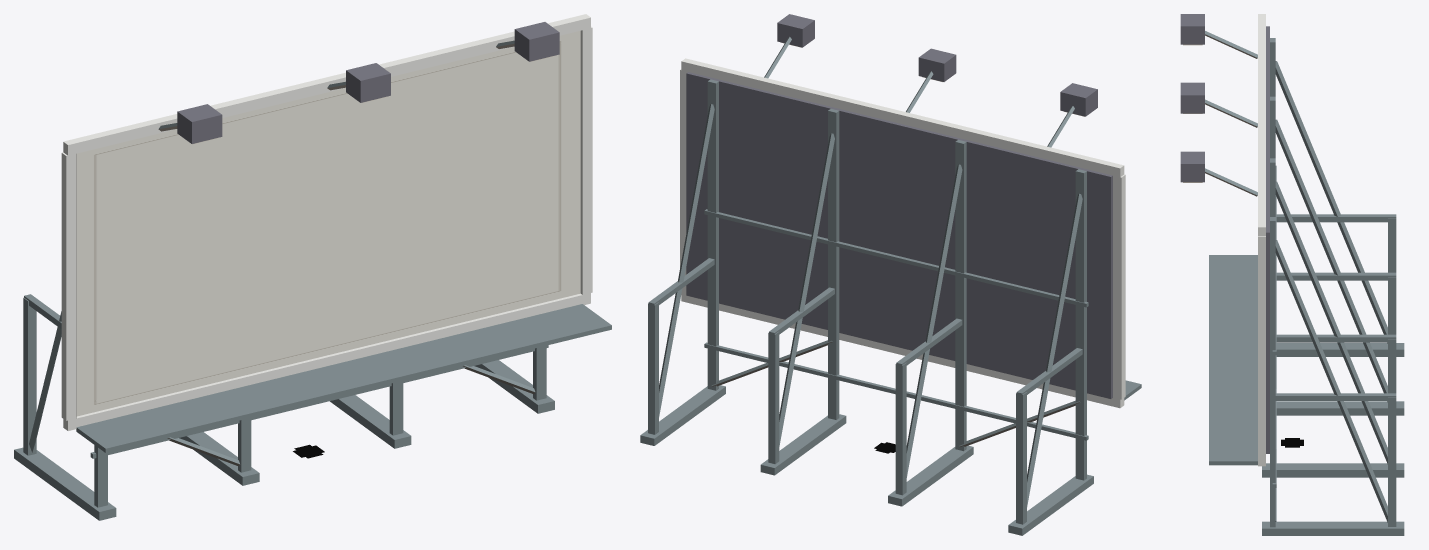
Rendered from tb_rooftop_billboard_01.fbx.
3 renders of one model, left to right at view 1: azimuth 30°, elevation 25°; view 2: azimuth 150°, elevation 25°; view 3: azimuth 270°, elevation 25°, orthographic. The views are drawn at different scales.
Visible parts, largest first — view 1: tb_rooftop_billboard_01; view 2: tb_rooftop_billboard_01; view 3: tb_rooftop_billboard_01.
Boxes of the visible parts, x1,y1,x2,y2 form: tb_rooftop_billboard_01: (14, 14, 611, 520); tb_rooftop_billboard_01: (640, 14, 1141, 535); tb_rooftop_billboard_01: (1180, 14, 1404, 535).
Size of what is drawn, in the model's own units: 6.24 by 4.8 by 3.
Materials: 4 (3 with a texture image).
